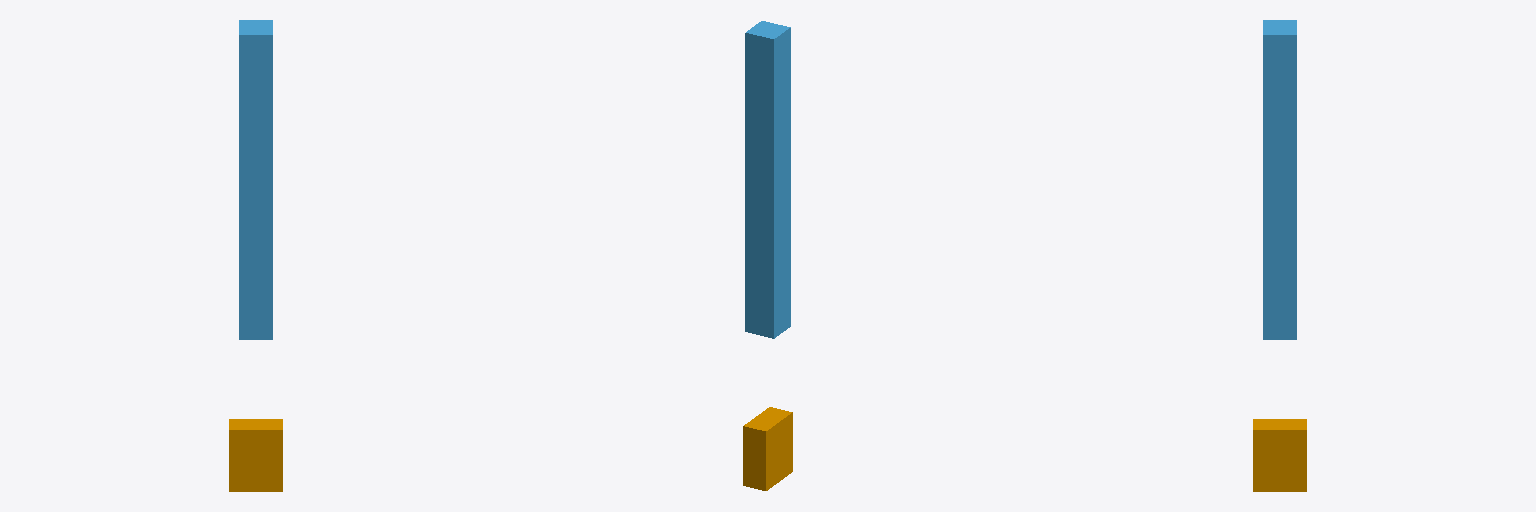
URDF robot description (urdf_robot):
<?xml version="1.0" ?>
<robot name="urdf_robot">
  <link name="baseLink">
    <inertial>
      <origin rpy="0 0 0" xyz="0 0 -0.175"/>
       <mass value="0.0"/>
       <inertia ixx="0" ixy="0" ixz="0" iyy="0" iyz="0" izz="0"/>
    </inertial>
    <visual>
      <origin rpy="0 0 0" xyz="0 0 0.35"/>
      <geometry>
      <box size="0.08 0.16 0.2"/>
      </geometry>
    </visual>
    <collision>
      <origin rpy="0 0 0" xyz="0 0 0.35"/>
      <geometry>
	 <box size="0.08 0.16 0.2"/>
      </geometry>
    </collision>
  </link>
   <link name="childA">
    <inertial>
      <origin rpy="0 0 0" xyz="0 0 0.25"/>
      <mass value="100"/>
      <inertia ixx="0.0" ixy="0" ixz="0" iyy="0.0" iyz="0" izz="0.0"/>
    </inertial>
    <visual>
      <origin rpy="0 0 0" xyz="0 0 0.25"/>
      <geometry>
        <box size="0.1 0.1 1"/>
      </geometry>
    </visual>
    <collision>
      <origin rpy="0 0 0" xyz="0 0 0.25"/>
      <geometry>
        <box size="0.1 0.1 1 "/>
      </geometry>
    </collision>
  </link>

  <joint name="panda_joint2" type="revolute">
    <origin rpy="0 0 0" xyz="0 0 1"/>
    <parent link="baseLink"/>
    <child link="childA"/>
    <axis xyz="1 0 0"/>
    <limit effort="87" velocity="2000.1750"/>
  </joint>

</robot>

--- What the picture shows (computed from the rendered views, not written in the file) ---
The picture shows the robot from 3 angles, left to right: view 1: azimuth 90°, elevation 25°; view 2: azimuth 150°, elevation 25°; view 3: azimuth 270°, elevation 25°; orthographic projection.
Robot: urdf_robot — 2 links, 1 joints (1 revolute); root link baseLink; default pose: all joints at 0.
Links seen in each view (by area): view 1: childA, baseLink; view 2: childA, baseLink; view 3: childA, baseLink.
Boxes of the visible links, box(x1,y1,x2,y2) form: childA: box(239, 20, 272, 339); baseLink: box(229, 419, 282, 491); childA: box(745, 21, 790, 338); baseLink: box(743, 407, 792, 490); childA: box(1263, 20, 1296, 339); baseLink: box(1253, 419, 1306, 491).
Size in the robot's own frame: 0.1 by 0.16 by 1.5 metres.
Geometry: primitives only (box / cylinder / sphere), no mesh files.